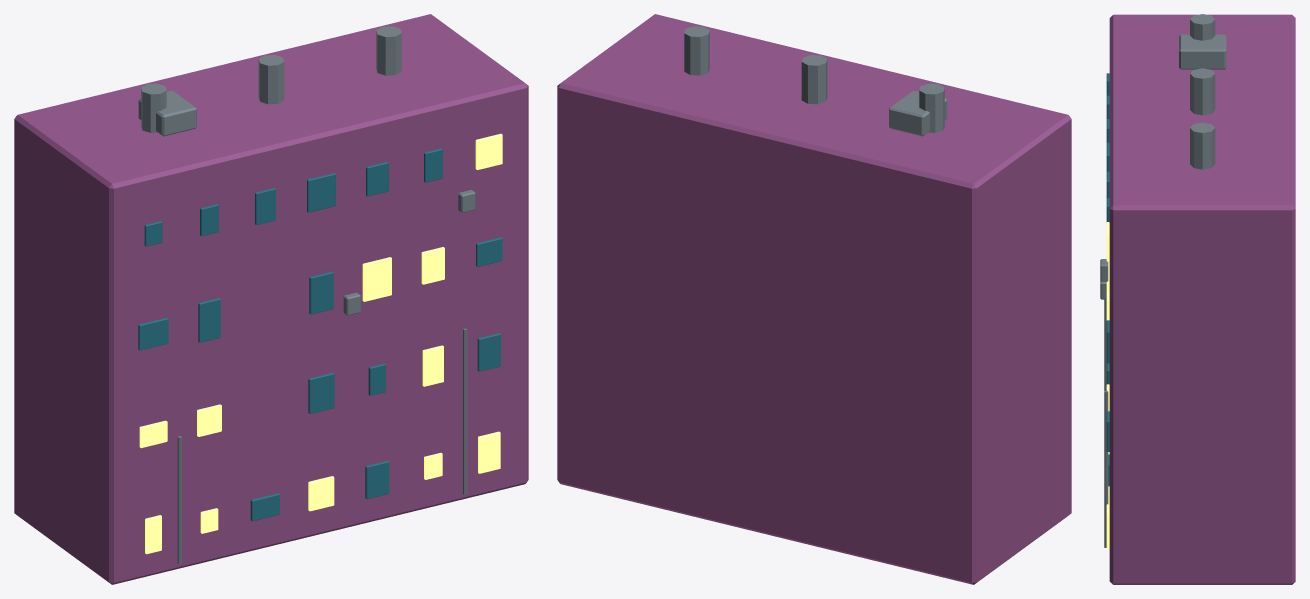
Rendered from building_007_seed100.glb.
3 renders of one model, left to right at view 1: azimuth 30°, elevation 25°; view 2: azimuth 150°, elevation 25°; view 3: azimuth 270°, elevation 25°, orthographic. The views are drawn at different scales.
Parts seen in each view (by area): view 1: building_007_seed100; view 2: building_007_seed100; view 3: building_007_seed100.
Boxes of the visible parts, x1,y1,x2,y2 form: building_007_seed100: (14, 14, 528, 584); building_007_seed100: (557, 14, 1071, 584); building_007_seed100: (1100, 14, 1295, 584).
Bounding box in the file's own units: 10.24 × 10.25 × 4.36.
